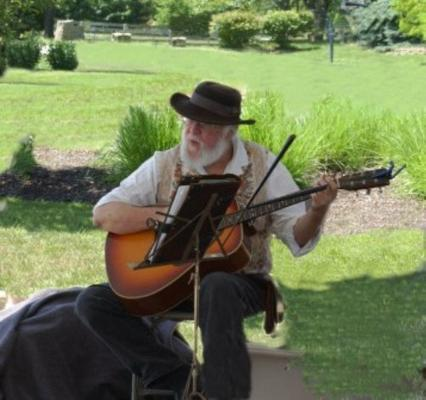person: (92, 81, 337, 398)
